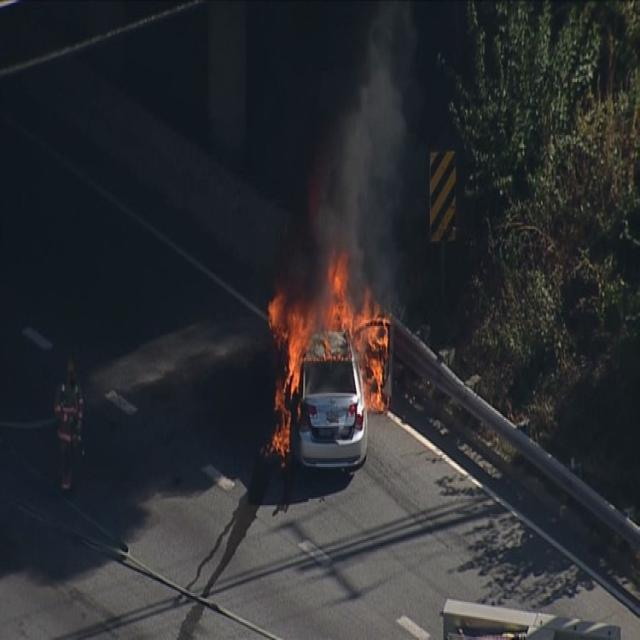Fire: (260, 252, 388, 464)
Smoke: (297, 0, 427, 319)
